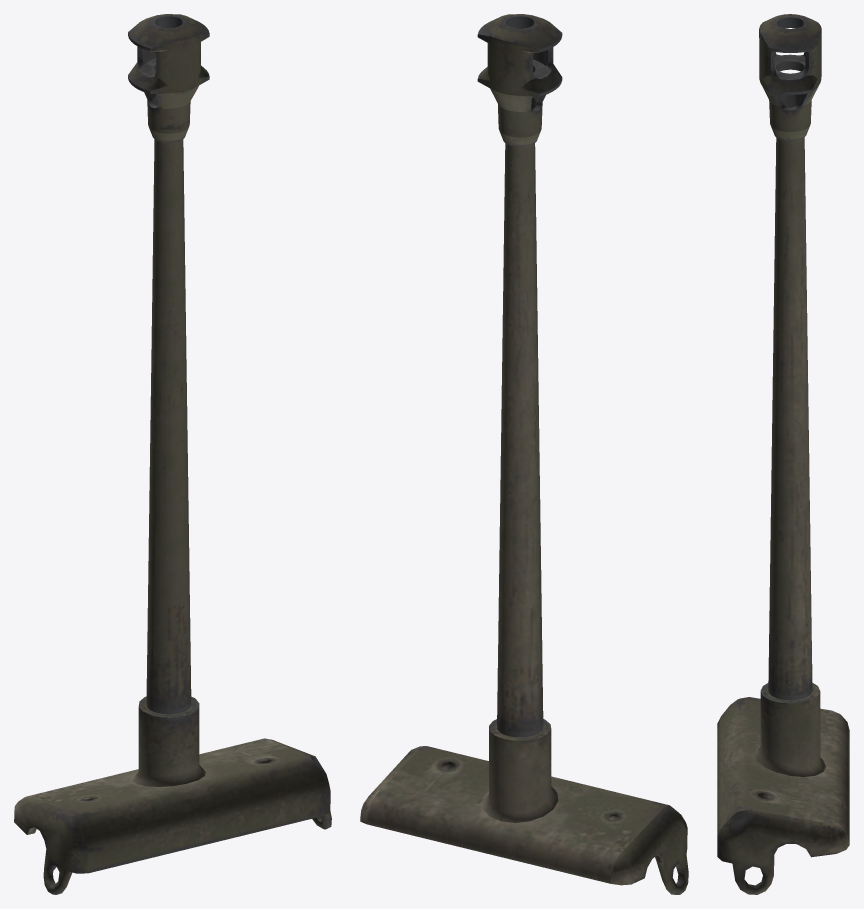
The model's file is Gun_01.glb.
3 views of the same model, side by side, from view 1: azimuth 30°, elevation 25°; view 2: azimuth 150°, elevation 25°; view 3: azimuth 270°, elevation 25° (orthographic). The views are drawn at different scales.
Parts seen in each view (by area): view 1: set_0_group_0; view 2: set_0_group_0; view 3: set_0_group_0.
Boxes of the visible parts, <box> form: set_0_group_0: <box>14,14,331,894</box>; set_0_group_0: <box>360,14,688,894</box>; set_0_group_0: <box>717,14,849,894</box>.
Bounding box in the file's own units: 1.23 × 3.47 × 0.5169.
Materials: 1 (1 with a texture image).
